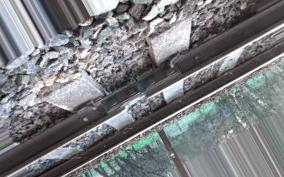tracks_fault: (91, 61, 188, 120)
